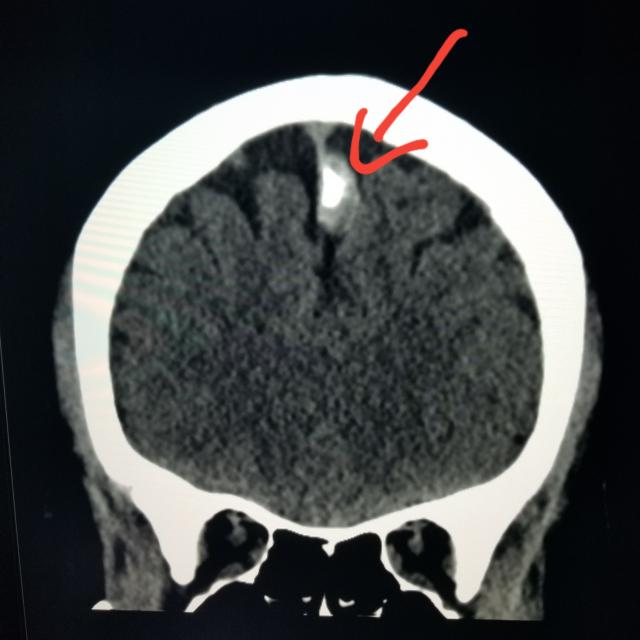Tumor: (318, 160, 349, 208)
